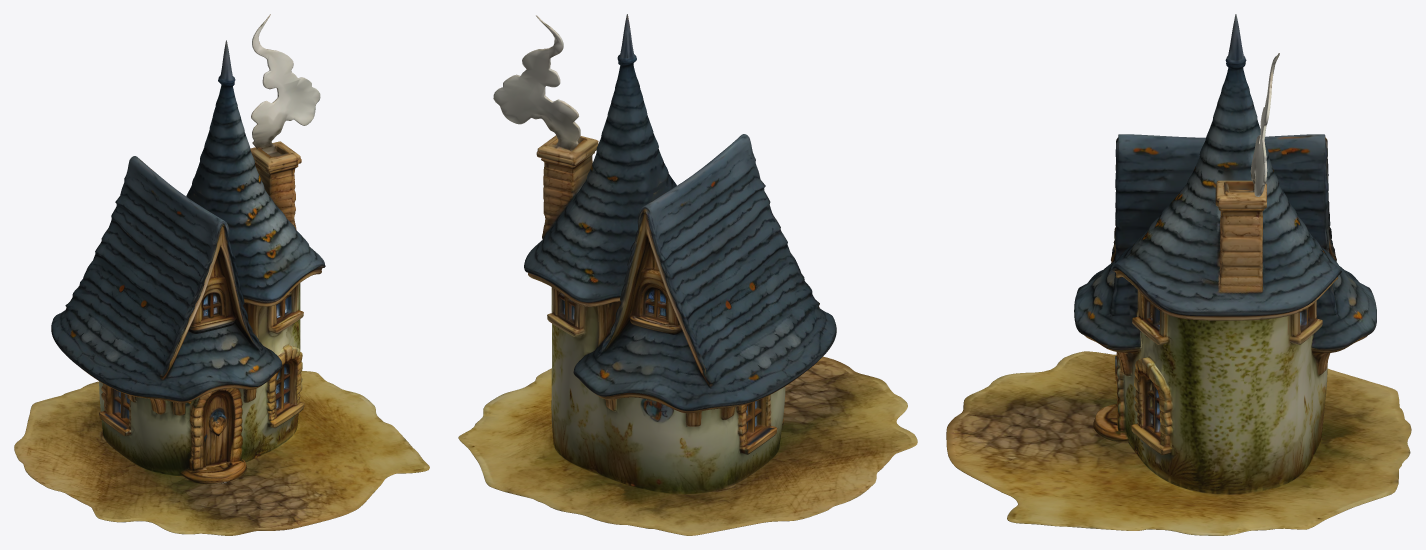
File: fantasy-house-3d.glb
3 views of the same model, side by side, from view 1: azimuth 30°, elevation 25°; view 2: azimuth 150°, elevation 25°; view 3: azimuth 270°, elevation 25° (orthographic). The views are drawn at different scales.
Visible parts, largest first — view 1: material; view 2: material; view 3: material.
Part boxes in pixels (x1=…): material: x1=14, y1=14, x2=429, y2=535; material: x1=458, y1=14, x2=917, y2=535; material: x1=946, y1=14, x2=1411, y2=535.
Bounding box in the file's own units: 0.759 × 0.8373 × 0.789.
1 material, 1 textured.
